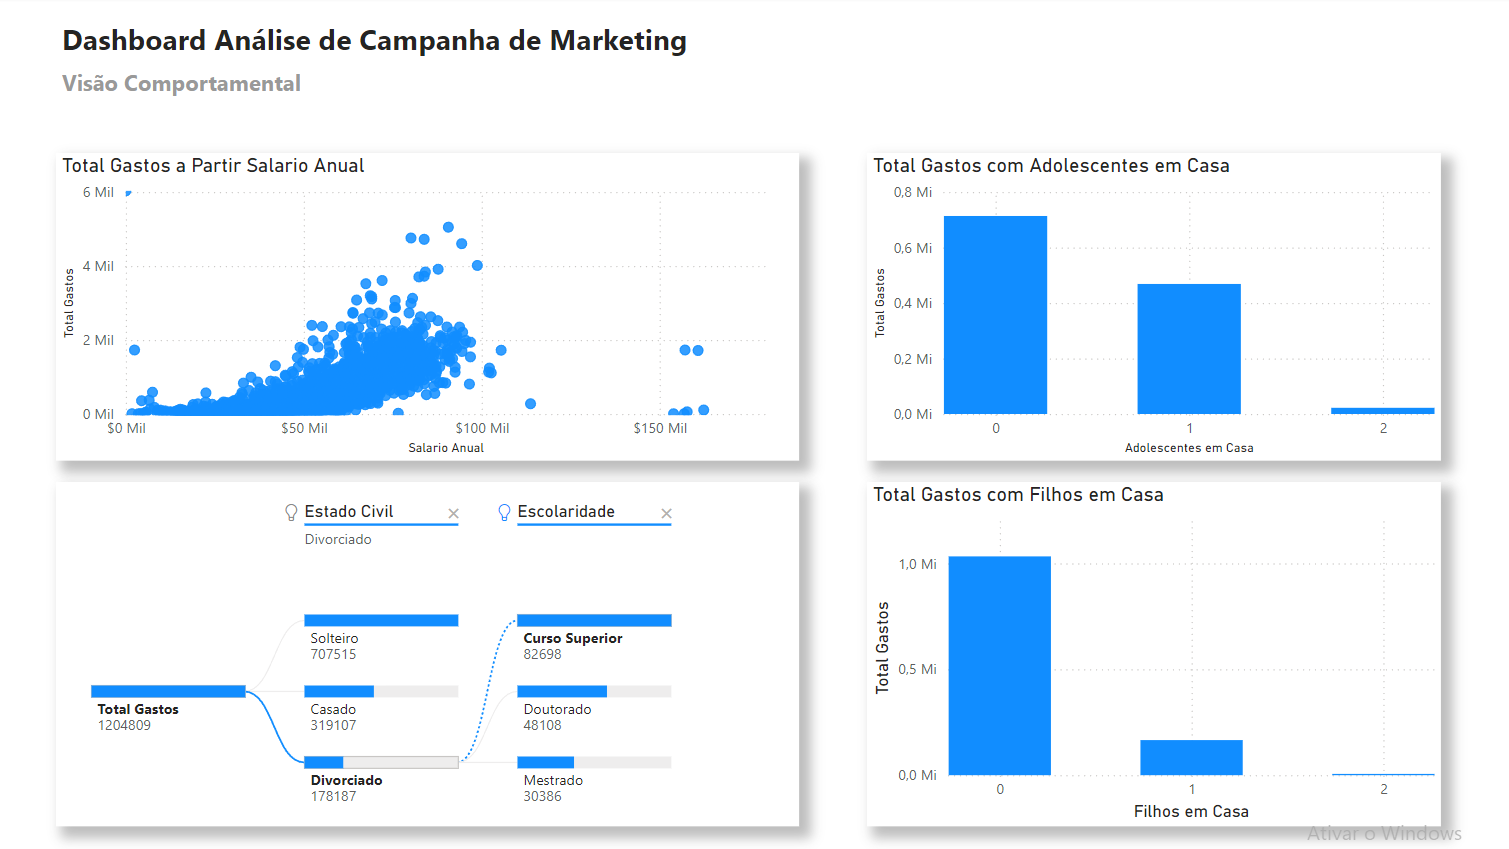

The page's visual inventory and layout, read from the dashboard file:
{"tool":"powerbi","page":{"name":"Visão Comportamental","canvas":[1280,720],"ordinal":1},"visuals":[{"type":"scatterChart","title":"Total Gastos a Partir Salario Anual","fields":{"X":["dados_marketing.Salario Anual"],"Y":["dados_marketing.Total Gastos"]},"box":[50.1,131.5,628.3,259.6],"z":0},{"type":"clusteredColumnChart","title":"Total Gastos com Adolescentes em Casa","fields":{"Category":["dados_marketing.Adolescentes em Casa"],"Y":["dados_marketing.Total Gastos"]},"box":[735.2,131.5,484.6,259.6],"z":1000},{"type":"clusteredColumnChart","title":"Total Gastos com Filhos em Casa","fields":{"Category":["dados_marketing.Filhos em Casa"],"Y":["dados_marketing.Total Gastos"]},"box":[735.2,410,484.6,290.8],"z":2000},{"type":"decompositionTreeVisual","fields":{"Analyze":["dados_marketing.Total Gastos"],"ExplainBy":["dados_marketing.Estado Civil","dados_marketing.Escolaridade"]},"box":[50.1,410,628.3,290.8],"z":3000},{"type":"group","id":"g1","title":"Grupo 1","box":[50.1,13.4,548.1,82.4],"z":4000},{"type":"textbox","box":[50.3,13.4,548.1,42.3],"z":11000,"group":"g1"},{"type":"textbox","box":[50.1,54.3,230.6,41.2],"z":12001,"group":"g1"}]}

Visuals, with their boxes on the page's 1280x720 design canvas (x1, y1, x2, y2). These are canvas units, not pixel positions in the 1509x849 screenshot, which may show the page scaled, cropped or inside an application window:
"Total Gastos a Partir Salario Anual" scatterChart: <bbox>50, 132, 678, 391</bbox>
"Total Gastos com Adolescentes em Casa" clusteredColumnChart: <bbox>735, 132, 1220, 391</bbox>
"Total Gastos com Filhos em Casa" clusteredColumnChart: <bbox>735, 410, 1220, 701</bbox>
decompositionTreeVisual - dados_marketing.Total Gastos x dados_marketing.Estado Civil: <bbox>50, 410, 678, 701</bbox>
"Grupo 1" group: <bbox>50, 13, 598, 96</bbox>
textbox: <bbox>50, 13, 598, 56</bbox>
textbox: <bbox>50, 54, 281, 96</bbox>
